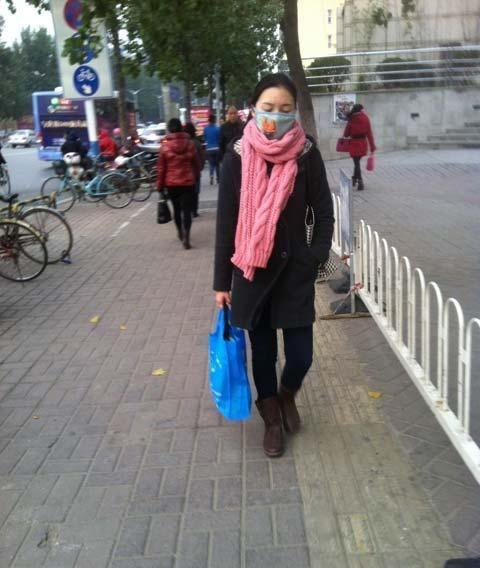NONE: (229, 109, 239, 124)
OK: (259, 97, 296, 140)
